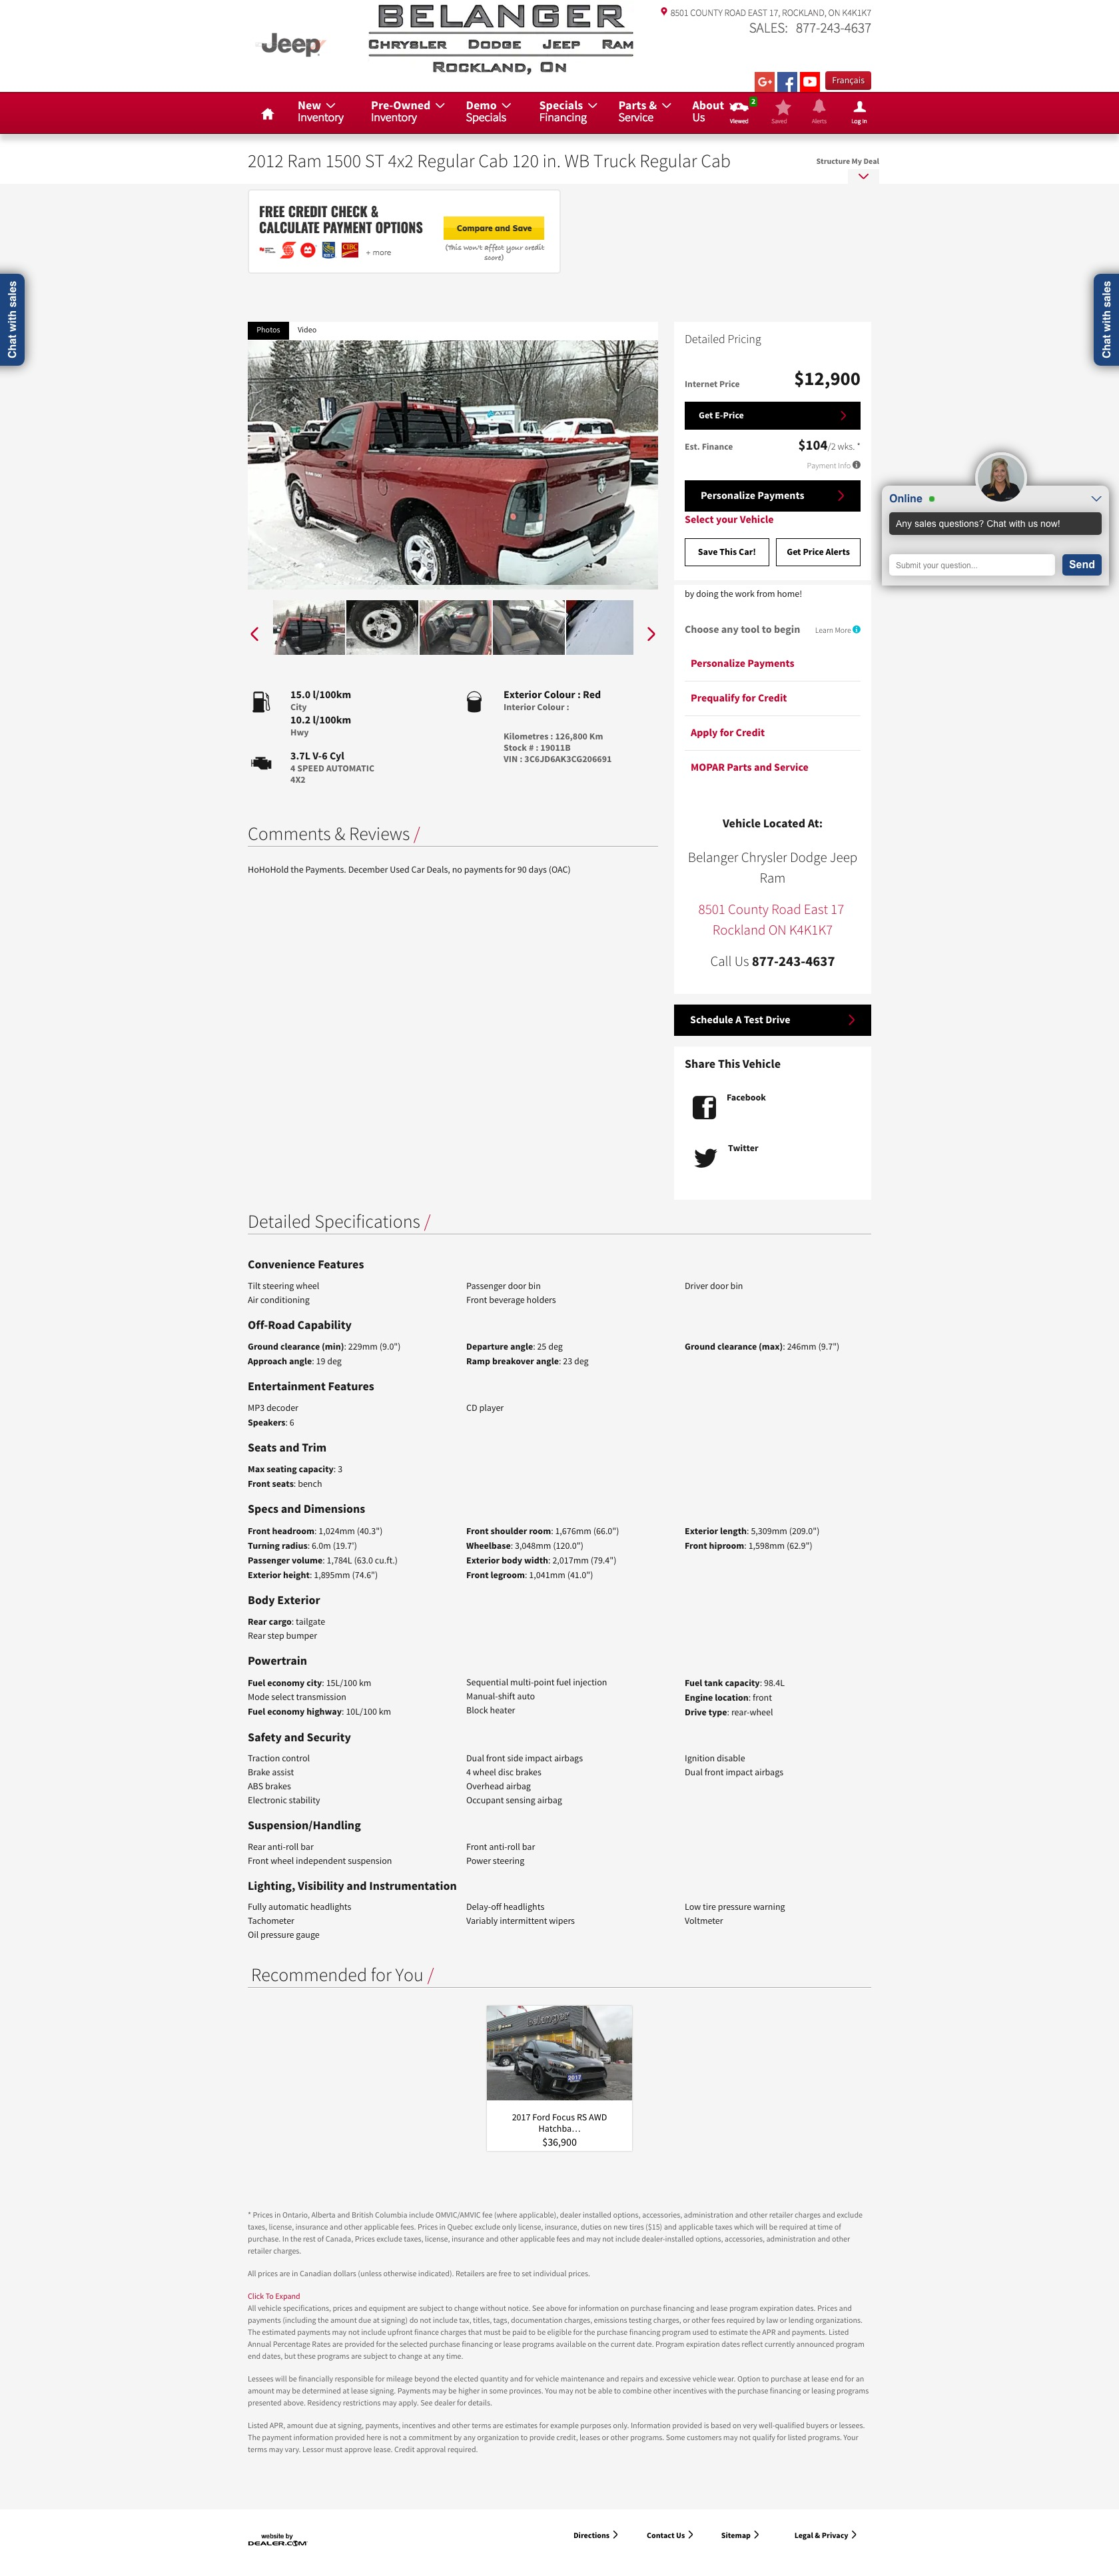car: (647, 628, 656, 641)
